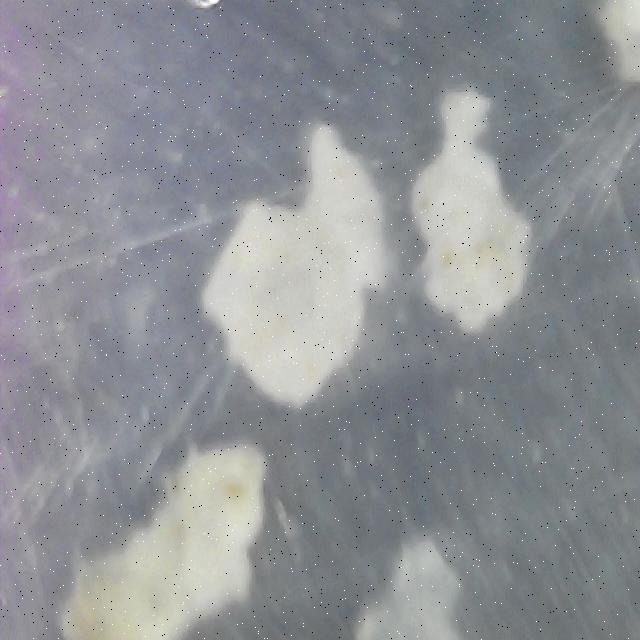fragments: (160, 117, 457, 425), (383, 81, 551, 343), (361, 542, 460, 640), (0, 1, 1, 1)
